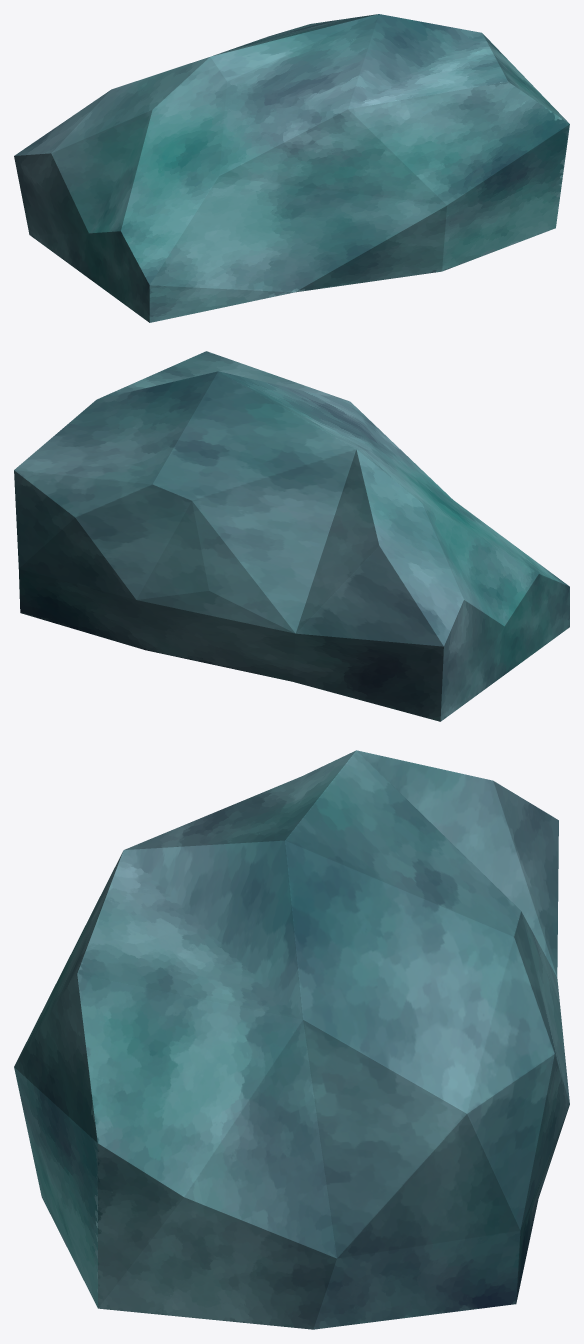
Rendered from Piedra.fbx.
The picture shows the model from 3 angles, top to bottom: view 1: azimuth 30°, elevation 25°; view 2: azimuth 150°, elevation 25°; view 3: azimuth 270°, elevation 25°; orthographic projection. The views are drawn at different scales.
Parts seen in each view (by area): view 1: Cube.001; view 2: Cube.001; view 3: Cube.001.
Part boxes in pixels (x1,y1,x2,y2): Cube.001: (14, 14, 569, 322); Cube.001: (14, 351, 569, 721); Cube.001: (14, 750, 569, 1329).
Bounding box in the file's own units: 293 × 132 × 183.
1 material, 1 textured.
